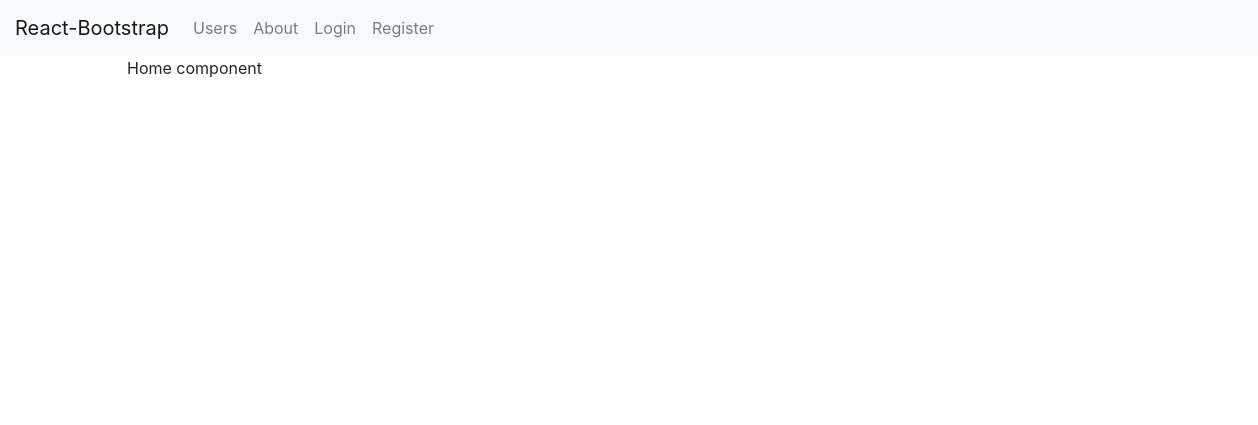
register new user › should register new user and redirect to home page
Click the link "Register" at [403, 28], box x1=372 y1=18 x2=434 y2=38
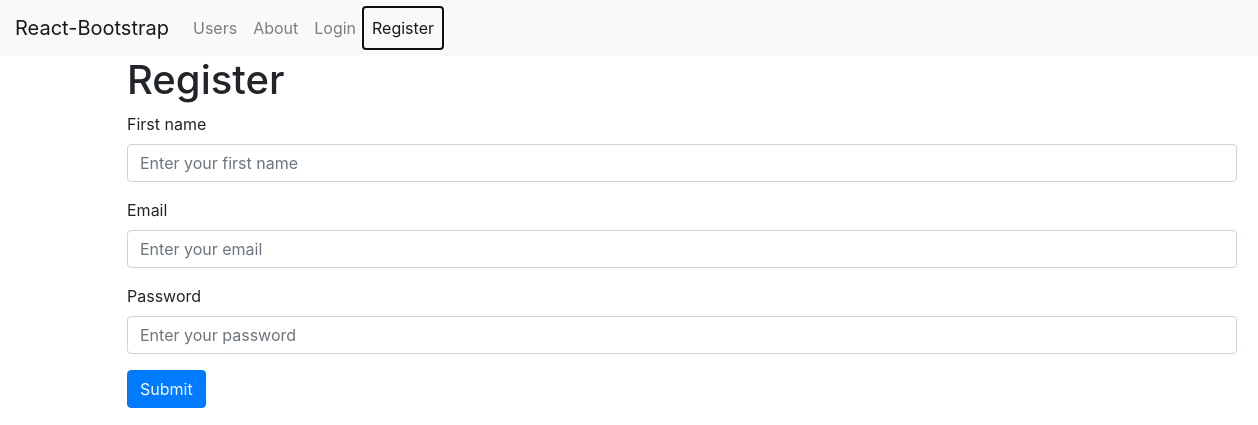
Type "Test" into the field with placeholder "Enter your first name" at [682, 163], box x1=127 y1=144 x2=1237 y2=182
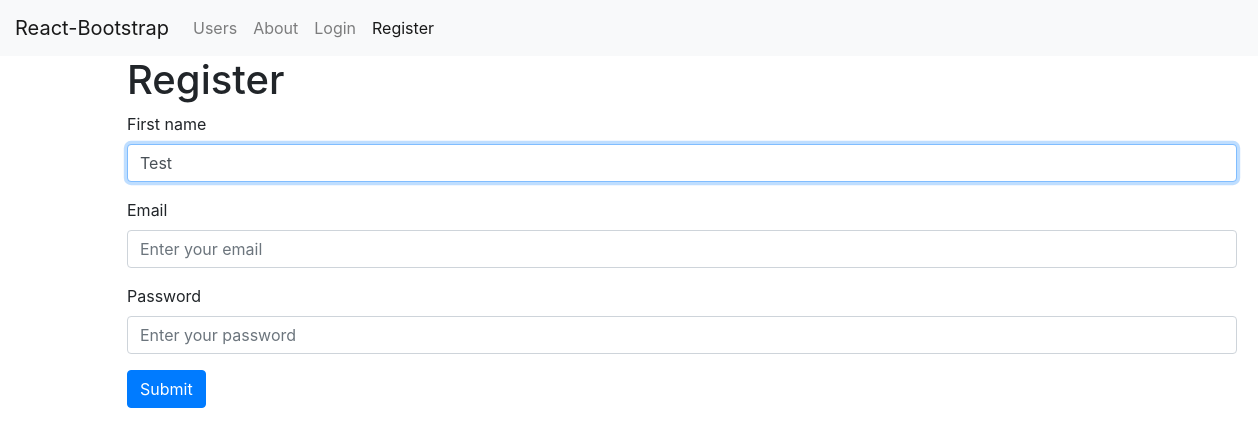
Type "test@test.com" into the field with placeholder "Enter your email" at [682, 249], box x1=127 y1=230 x2=1237 y2=268
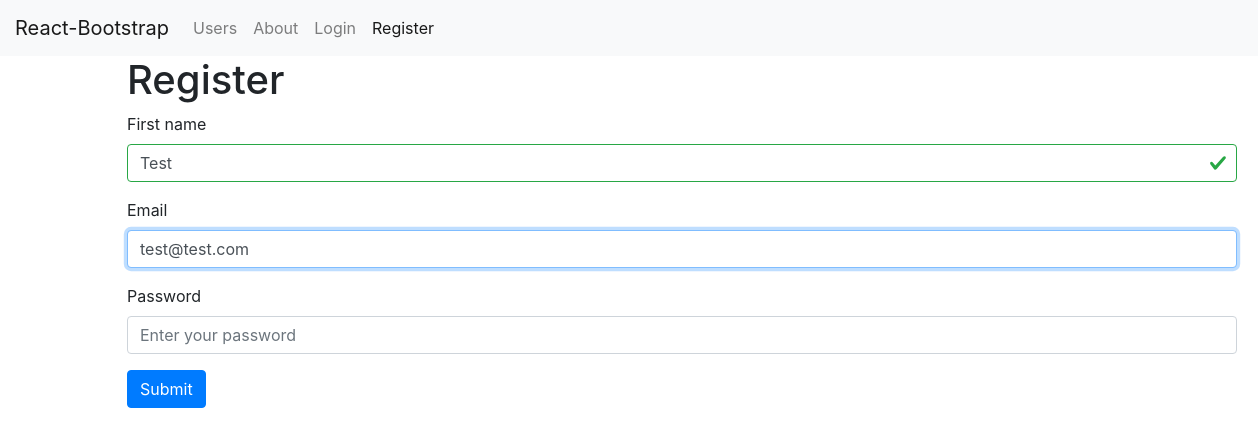
Type "123456qW!" into the password field with placeholder "Enter your password" at [682, 335], box x1=127 y1=316 x2=1237 y2=354
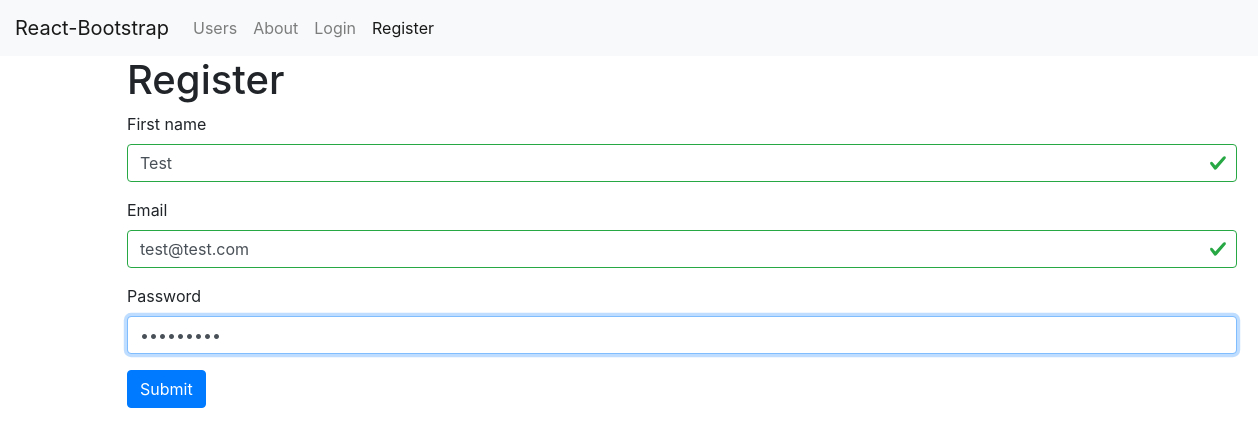
Click the button "Submit" at [166, 389], box x1=127 y1=370 x2=206 y2=408
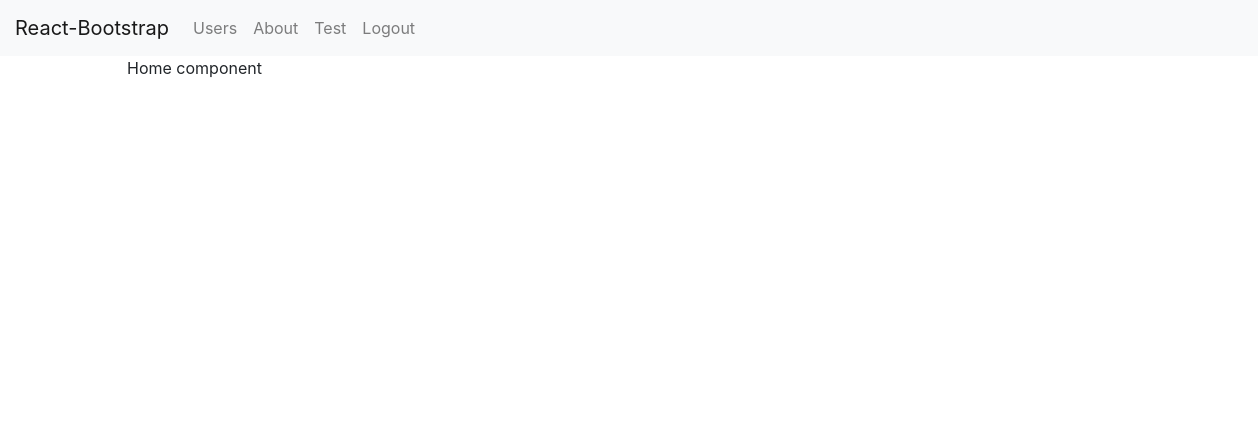
Result: the text "Home component" is shown at x1=127 y1=58 x2=262 y2=78
